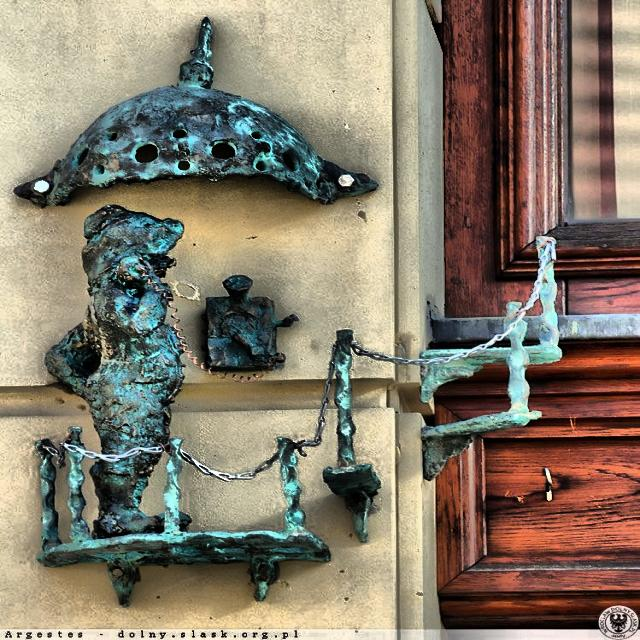Dryndek: (38, 205, 330, 606)
